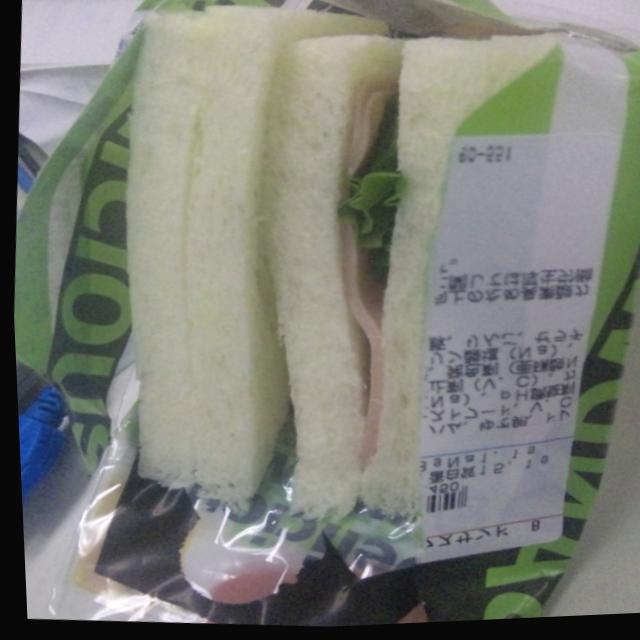三明治: (94, 0, 640, 565)
